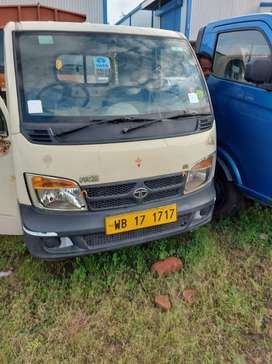WB171717: (105, 202, 176, 235)
